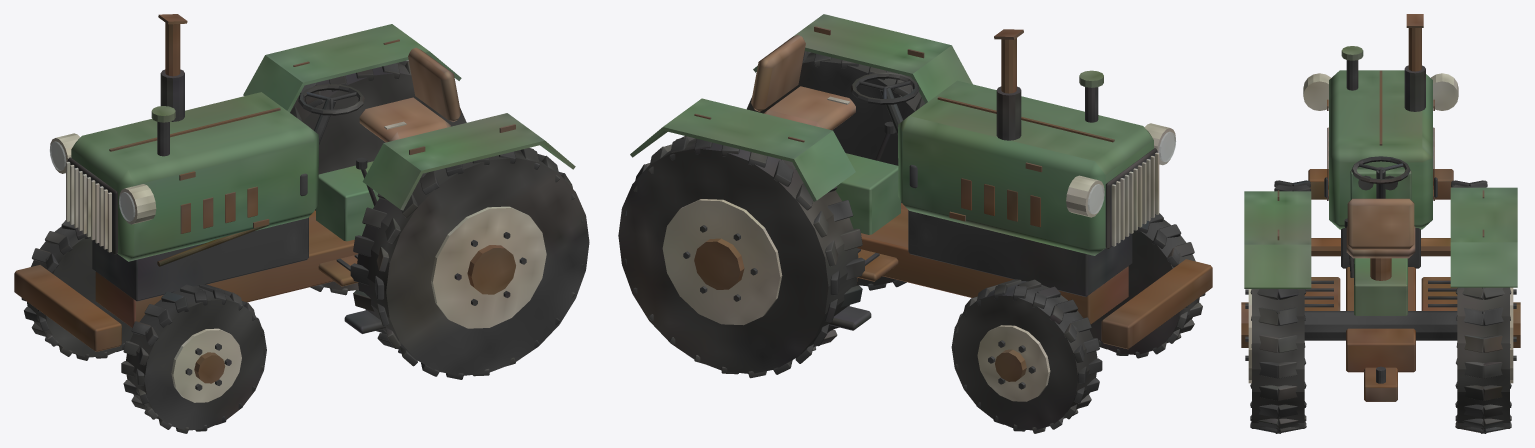
The model's file is CV10_tractor.glb.
3 renders of one model, left to right at view 1: azimuth 30°, elevation 25°; view 2: azimuth 150°, elevation 25°; view 3: azimuth 270°, elevation 25°, orthographic. The views are drawn at different scales.
Visible parts, largest first — view 1: Heavy chassis; view 2: Heavy chassis; view 3: Heavy chassis.
Part boxes in pixels (box(x1,y1,x2,y2)): Heavy chassis: box(14, 14, 589, 433); Heavy chassis: box(618, 14, 1212, 433); Heavy chassis: box(1241, 14, 1520, 433).
Bounding box in the file's own units: 3.5 × 2.47 × 2.03.
Materials: 8 (7 with a texture image).
